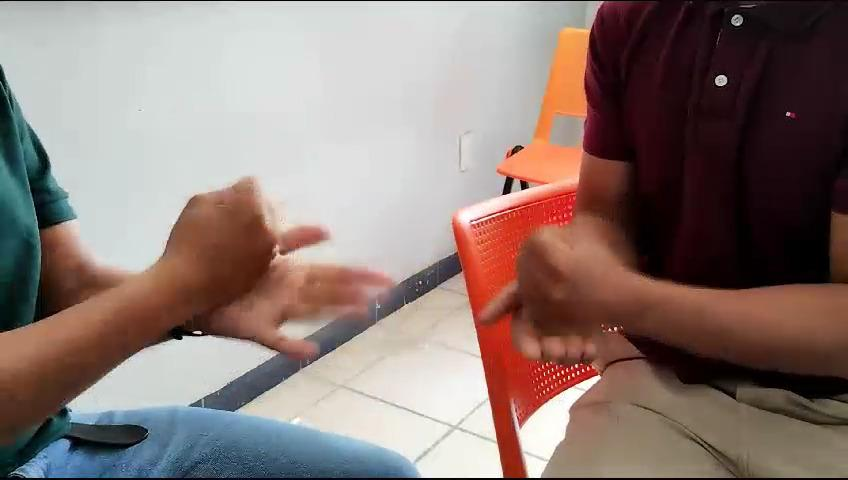Stone: (96, 182, 292, 316), (495, 219, 626, 338)
